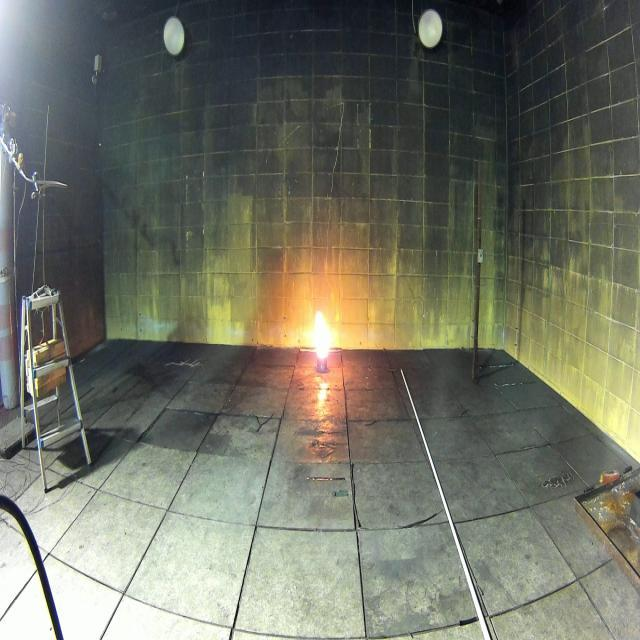Fire: (316, 310, 328, 360)
